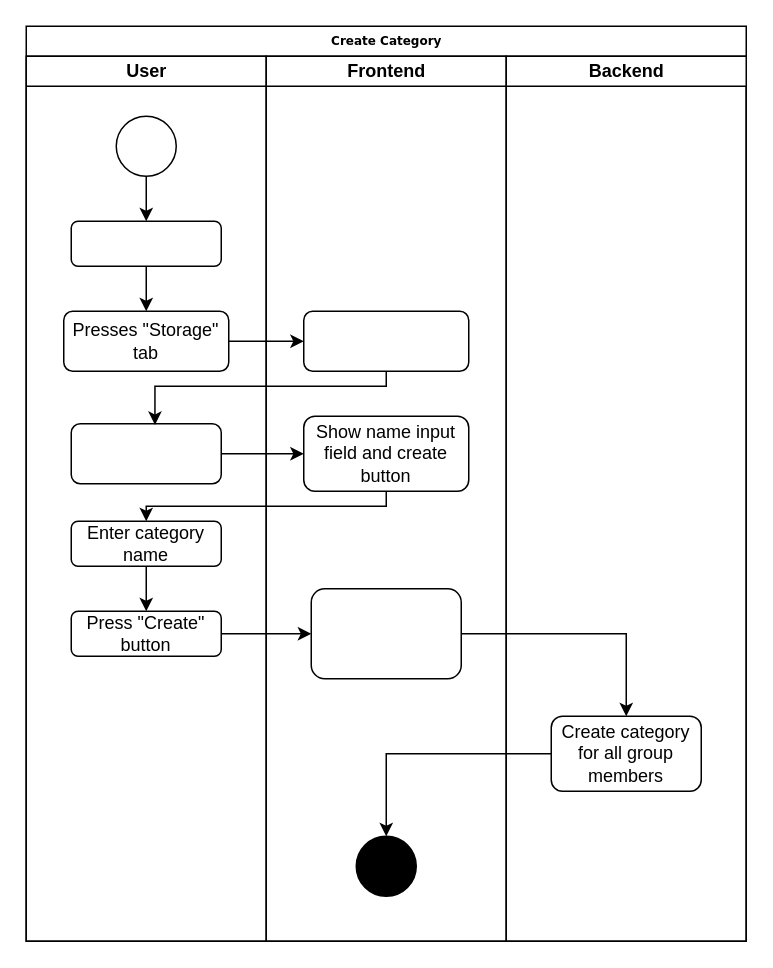
The diagram is 773 pixels wide and 968 high, and some of its shapes have lost their labels. The shapes that lost their labels are listed below. From the top down, each one's centre as x and y in pixels, then its label:
point (145, 243): Is in group chat
point (385, 340): Shows storage gui
point (145, 453): Presses "Create Category" button
point (385, 633): Show new category in the storage gui
